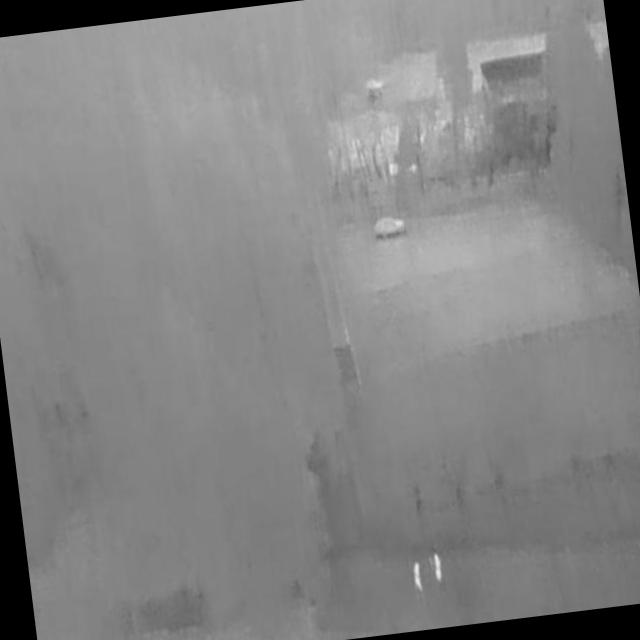person: (428, 553, 445, 585), (411, 560, 425, 596)
